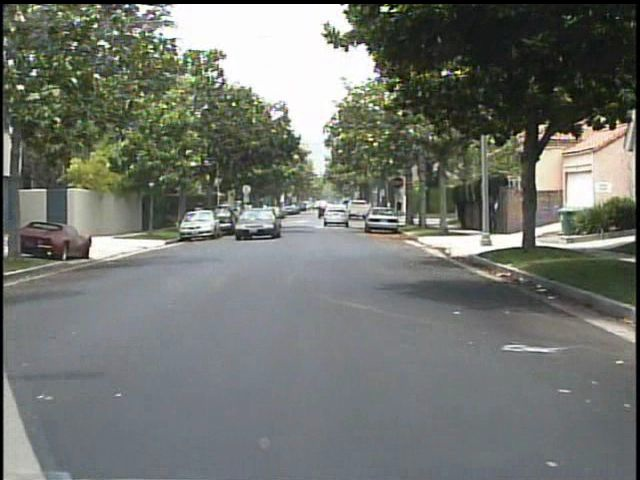person: (490, 192, 505, 237), (191, 201, 207, 232)
